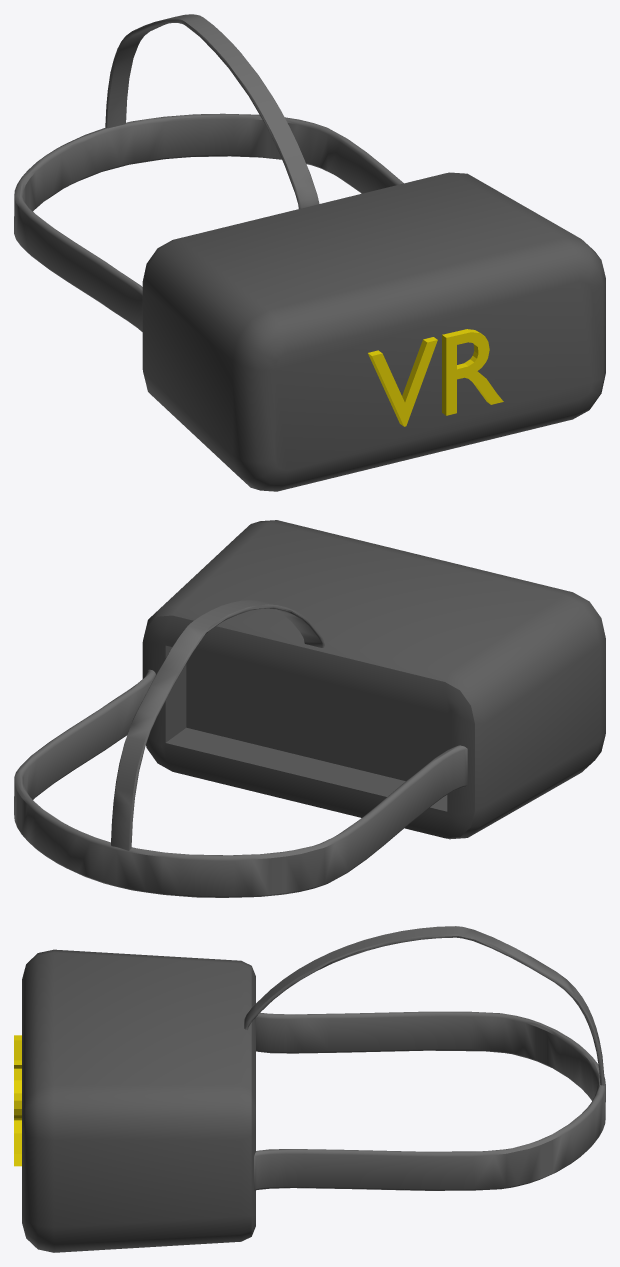
3 renders of one model, top to bottom at view 1: azimuth 30°, elevation 25°; view 2: azimuth 150°, elevation 25°; view 3: azimuth 270°, elevation 25°, orthographic. The views are drawn at different scales.
Visible parts, largest first — view 1: VRHeadset; view 2: VRHeadset; view 3: VRHeadset.
Part boxes in pixels (left/top/right/bottom): VRHeadset: left=14, top=14, right=605, bottom=491; VRHeadset: left=14, top=520, right=605, bottom=897; VRHeadset: left=14, top=926, right=605, bottom=1252.
Bounding box in the file's own units: 1.84 × 1.31 × 2.79.
